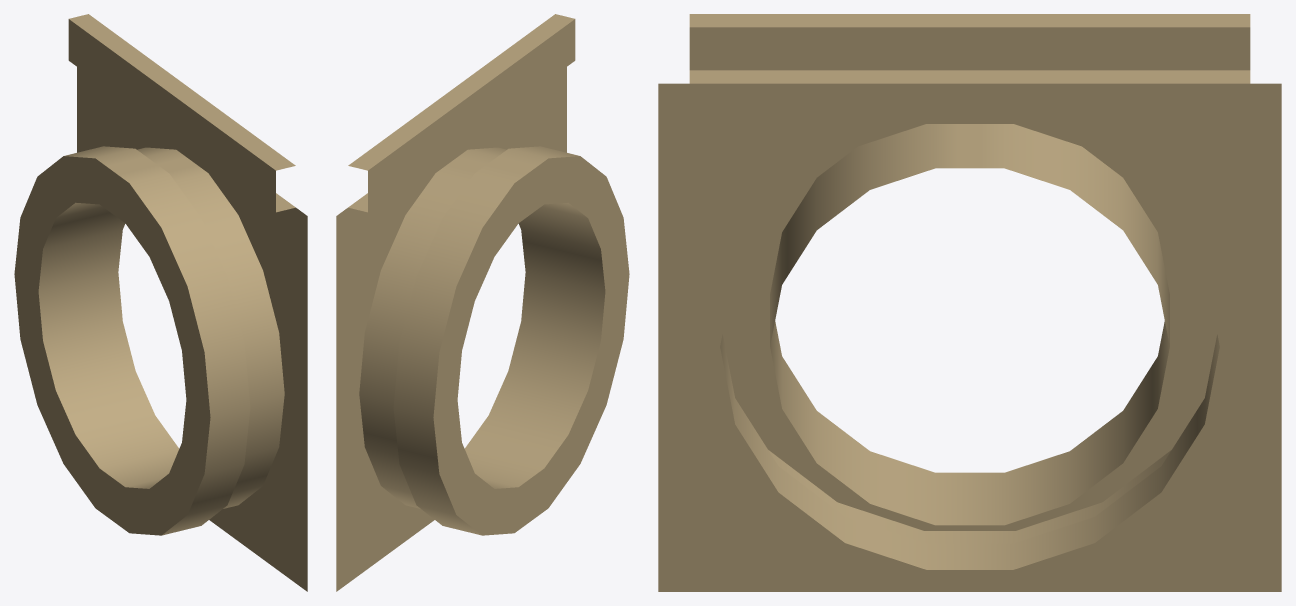
The model's file is Rohr_Boden.FBX.
3 views of the same model, side by side, from view 1: azimuth 30°, elevation 25°; view 2: azimuth 150°, elevation 25°; view 3: azimuth 270°, elevation 25° (orthographic). The views are drawn at different scales.
Visible parts, largest first — view 1: Rohrende_klein; view 2: Rohrende_klein; view 3: Rohrende_klein.
Part boxes in pixels (x1,y1,x2,y2): Rohrende_klein: (14,14,307,591); Rohrende_klein: (336,14,629,591); Rohrende_klein: (658,14,1281,591).
Size of the model in its own units: 20 by 100 by 100.
